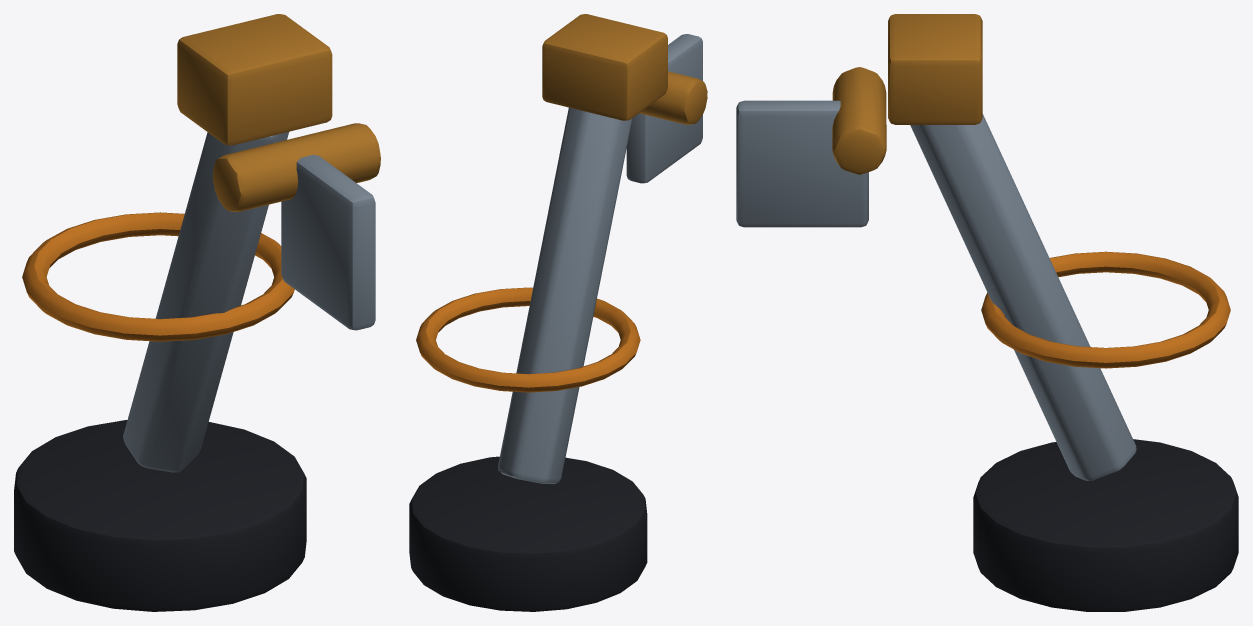
The model's file is MenderArm.obj.
3 views of the same model, side by side, from view 1: azimuth 30°, elevation 25°; view 2: azimuth 150°, elevation 25°; view 3: azimuth 270°, elevation 25° (orthographic). The views are drawn at different scales.
Visible parts, largest first — view 1: MenderArm; view 2: MenderArm; view 3: MenderArm.
Part boxes in pixels (x1,y1,x2,y2): MenderArm: [14, 14, 380, 611]; MenderArm: [409, 14, 707, 611]; MenderArm: [736, 14, 1238, 611].
Size of the model in its own units: 0.2772 by 0.61 by 0.53.
